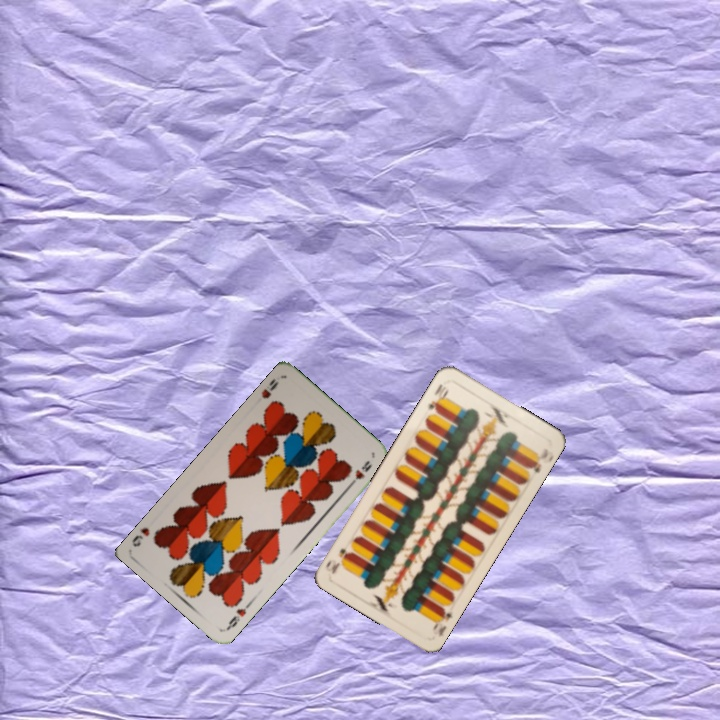E10: (423, 380, 451, 415), (428, 603, 456, 638)
H9: (223, 598, 254, 632), (257, 374, 281, 401)
